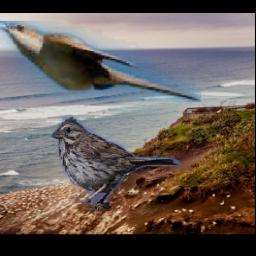Cuckoo: (0, 21, 201, 102)
Sparrow: (51, 114, 182, 211)
